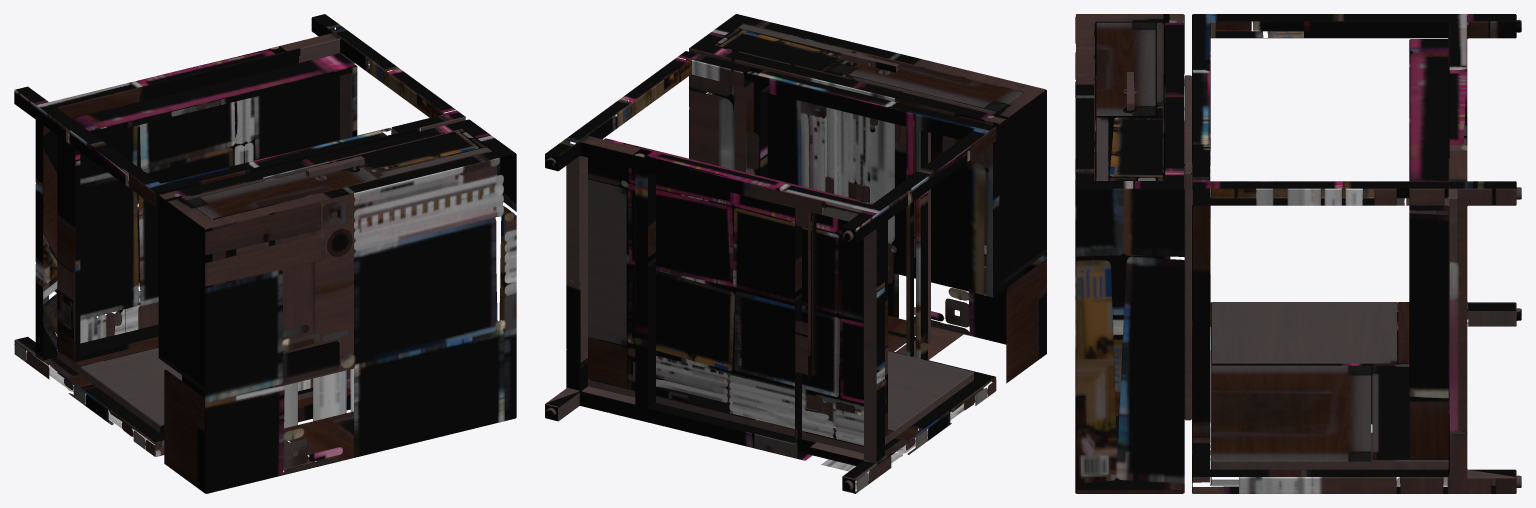
3 views of the same model, side by side, from view 1: azimuth 30°, elevation 25°; view 2: azimuth 150°, elevation 25°; view 3: azimuth 270°, elevation 25° (orthographic). The views are drawn at different scales.
Size of the model in its own units: 0.6604 by 0.5588 by 0.7112.
